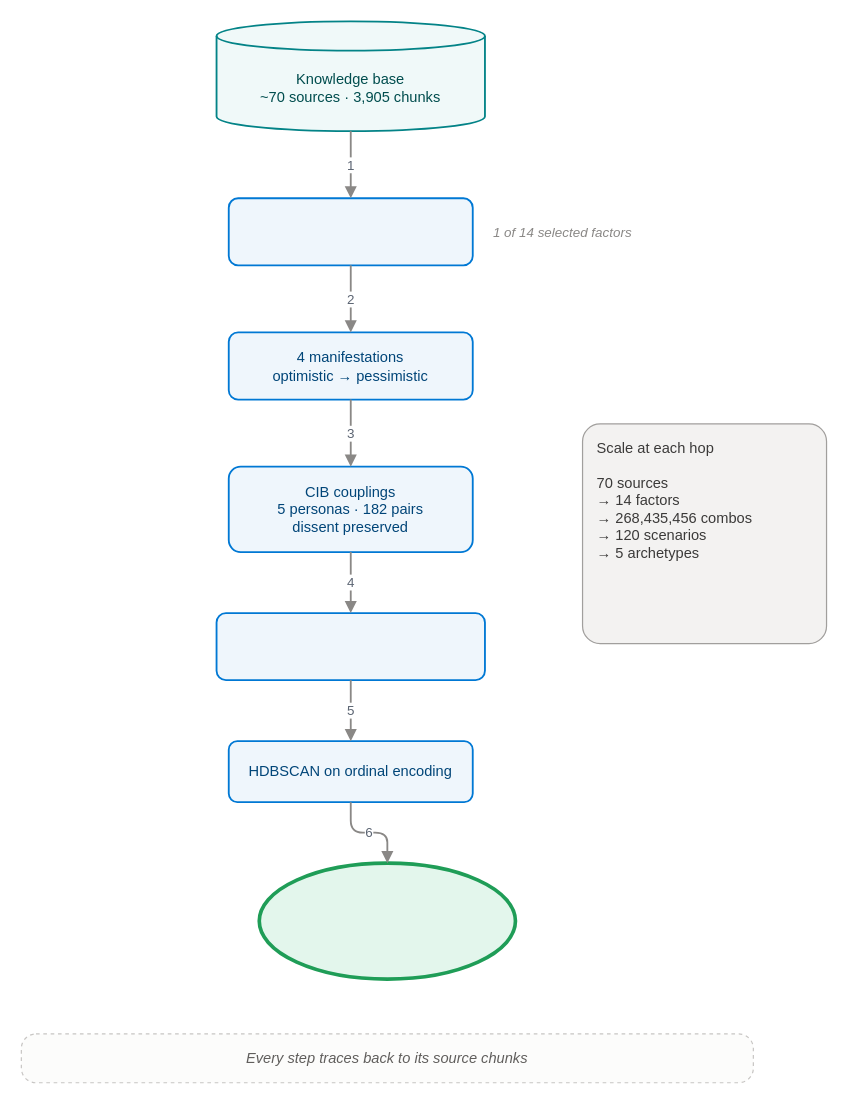
Some shapes in this 848 by 1105 pixel diagram are drawn without their labels. Here are the shapes that lost their labels. From the top down, the centre of each, then its label:
At point (350, 231): "Extract + ground one driver (keeps source_chunk_ids)".
At point (350, 646): "Sample 4^14 = 268,435,456 keep 120 consistent".
At point (387, 920): "5 named archetypes + ~40 continuum".
